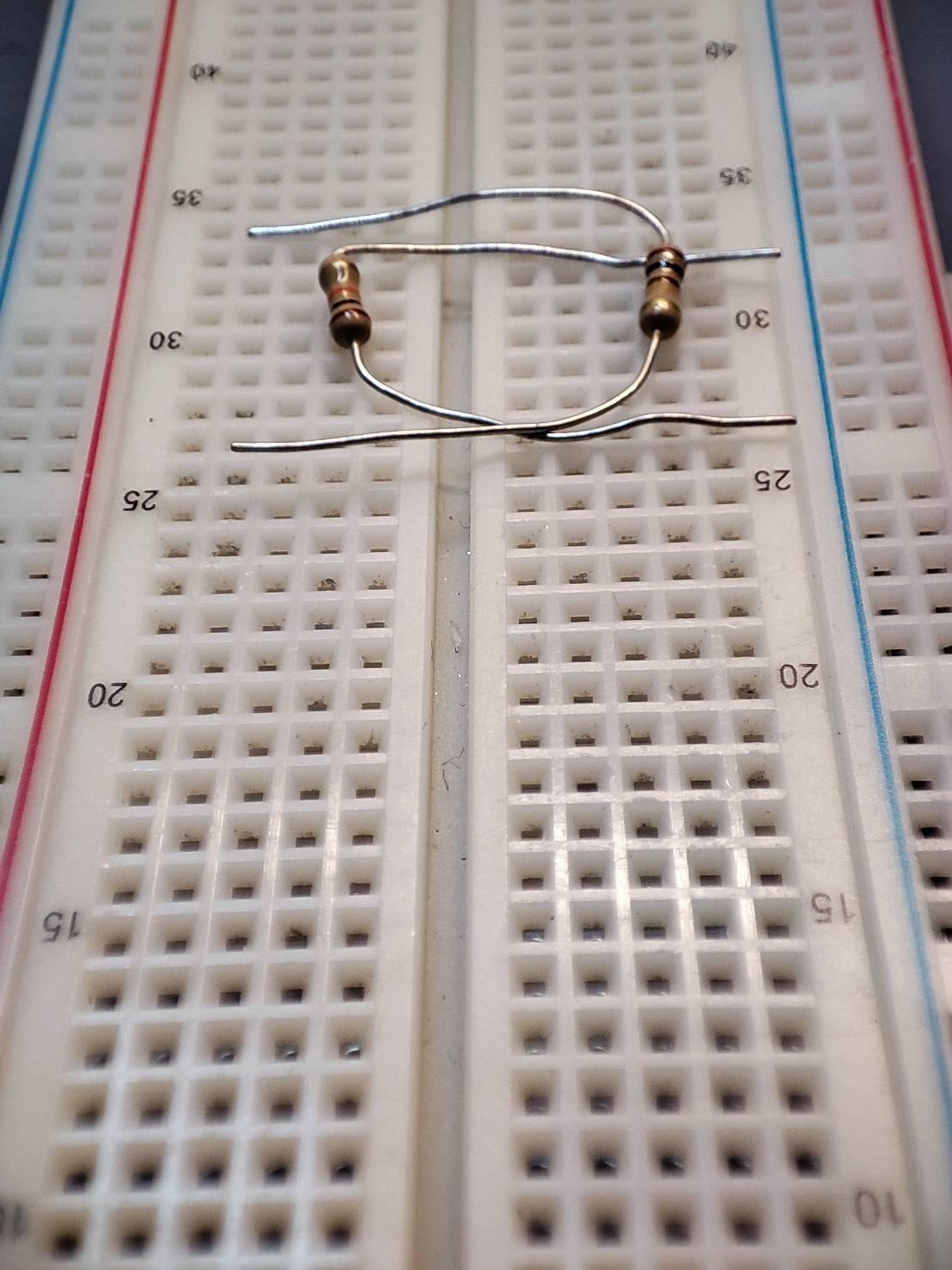resistor: (636, 233, 697, 348), (313, 251, 376, 354)
